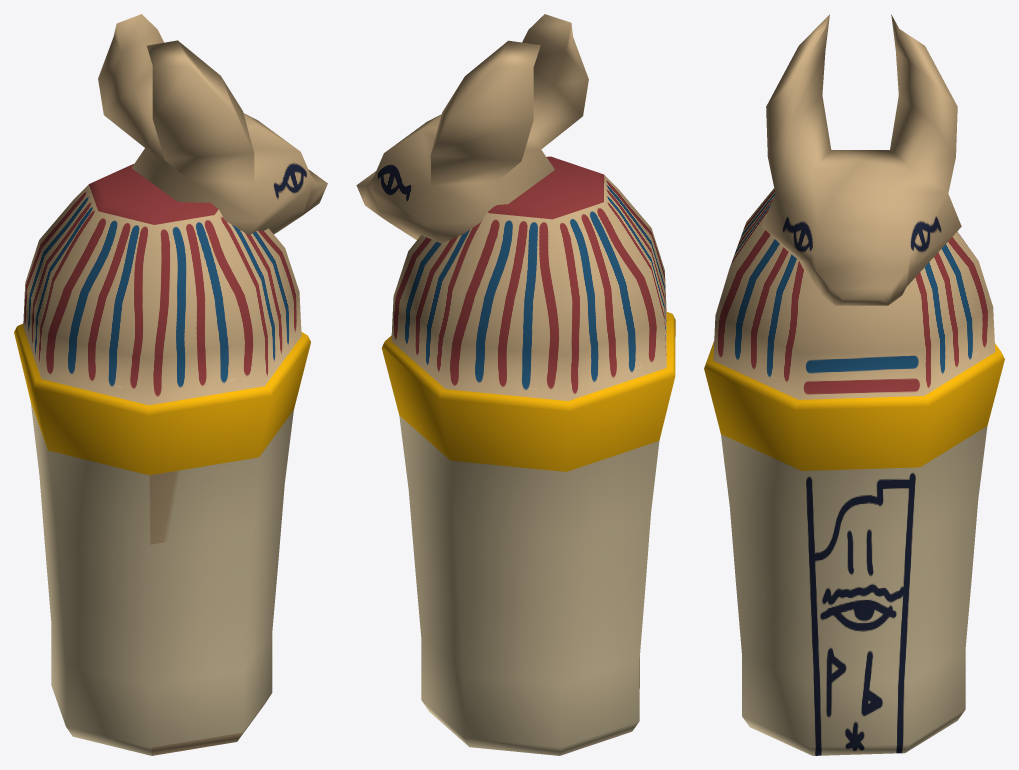
File: Urn.glb
The picture shows the model from 3 angles, left to right: view 1: azimuth 30°, elevation 25°; view 2: azimuth 150°, elevation 25°; view 3: azimuth 270°, elevation 25°; orthographic projection.
Parts seen in each view (by area): view 1: Cylinder; view 2: Cylinder; view 3: Cylinder.
Boxes of the visible parts, left/top/right/bottom form: Cylinder: left=14, top=14, right=327, bottom=755; Cylinder: left=356, top=14, right=675, bottom=755; Cylinder: left=704, top=14, right=1004, bottom=755.
Bounding box in the file's own units: 0.9108 × 2.03 × 0.8044.
Materials: 1 (1 with a texture image).
